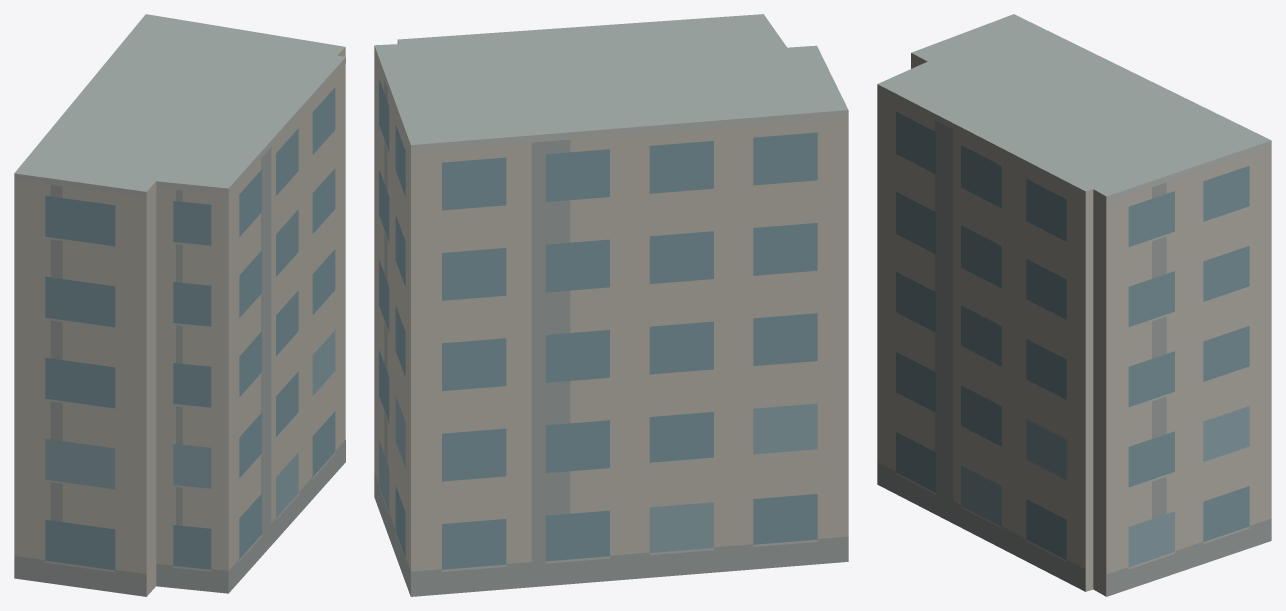
Rendered from survey-upis-32626495.glb.
3 views of the same model, side by side, from view 1: azimuth 30°, elevation 25°; view 2: azimuth 150°, elevation 25°; view 3: azimuth 270°, elevation 25° (orthographic). The views are drawn at different scales.
Parts seen in each view (by area): view 1: survey-upis-32626495.tmp; view 2: survey-upis-32626495.tmp; view 3: survey-upis-32626495.tmp.
Boxes of the visible parts, x1=… form: survey-upis-32626495.tmp: x1=14, y1=14, x2=345, y2=596; survey-upis-32626495.tmp: x1=374, y1=14, x2=848, y2=596; survey-upis-32626495.tmp: x1=877, y1=14, x2=1271, y2=596.
Size of the model in its own units: 14.91 by 15.25 by 13.62.
